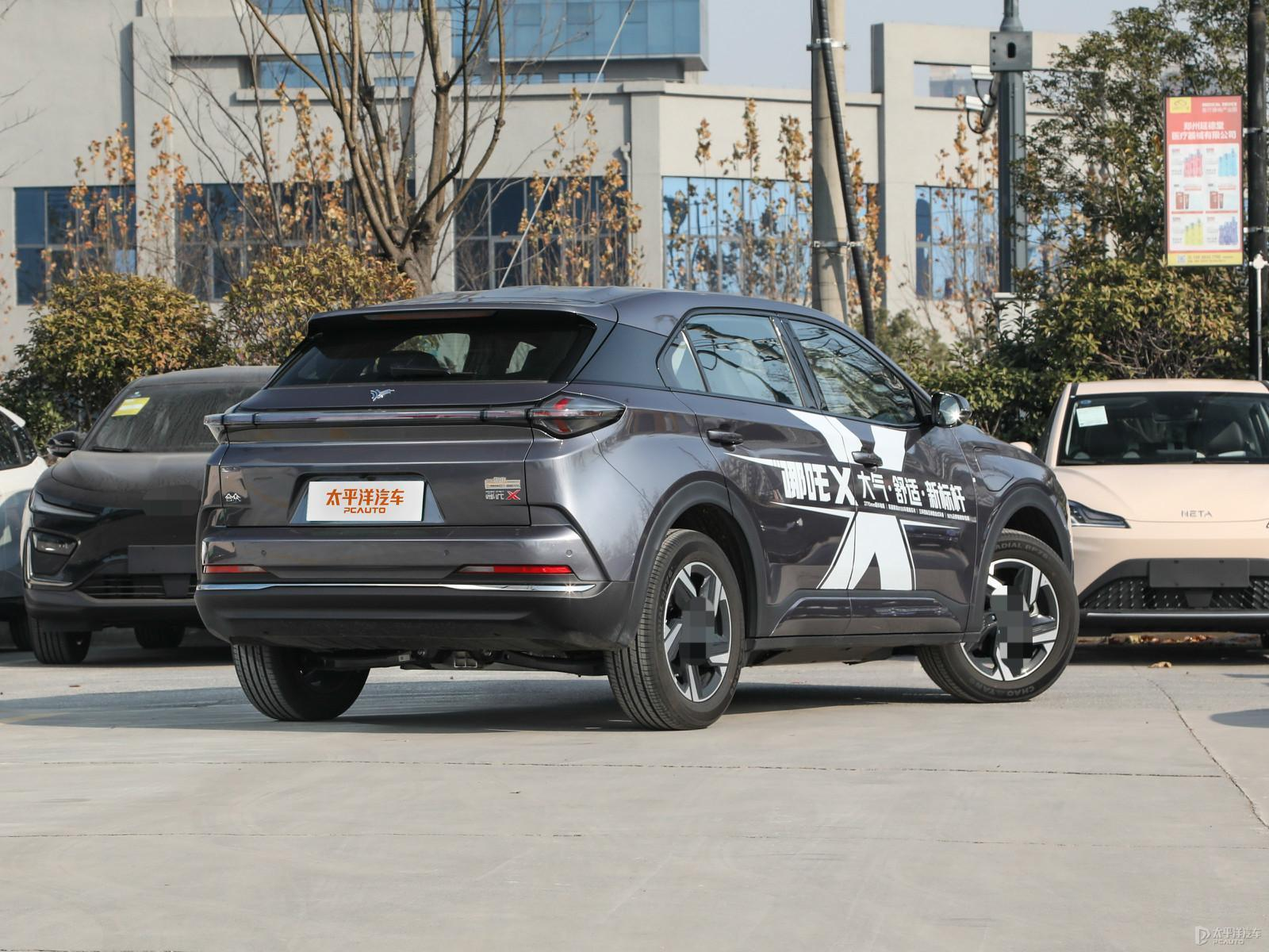NETA: (370, 389, 396, 402)
